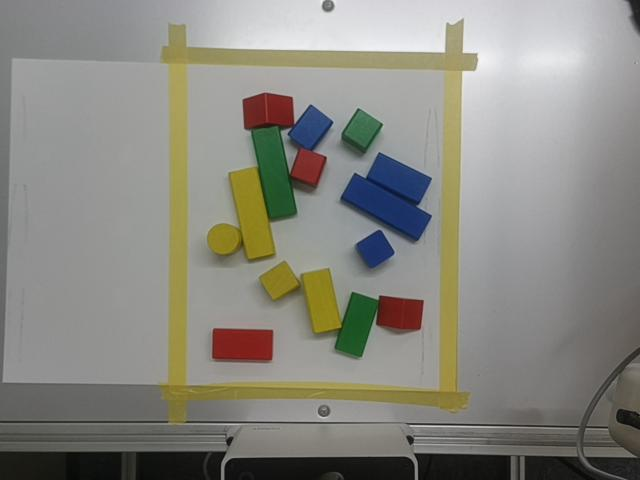blue_cube: (356, 230, 394, 268)
blue_longrect: (341, 174, 430, 240)
blue_rect: (366, 153, 431, 204)
cylinder: (207, 224, 241, 255)
green_cube: (341, 108, 382, 153)
green_longrect: (251, 126, 296, 219)
green_rect: (335, 292, 378, 357)
half_cylinder: (288, 105, 332, 150)
red_cube: (290, 148, 326, 188)
red_rect: (212, 328, 272, 360)
triangle: (243, 93, 293, 129), (376, 296, 423, 330)
yellow_cube: (259, 261, 299, 300)
yellow_longrect: (229, 167, 275, 259)
yelow_rect: (301, 269, 341, 333)
